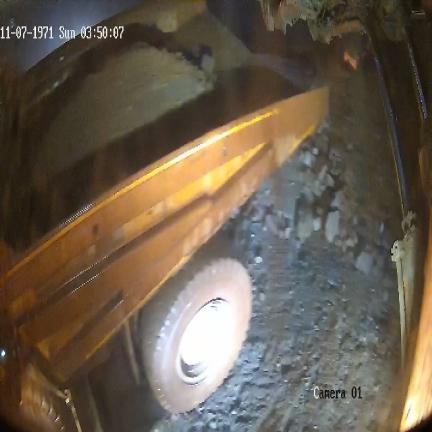pile: (229, 66, 398, 288), (19, 39, 217, 186)
